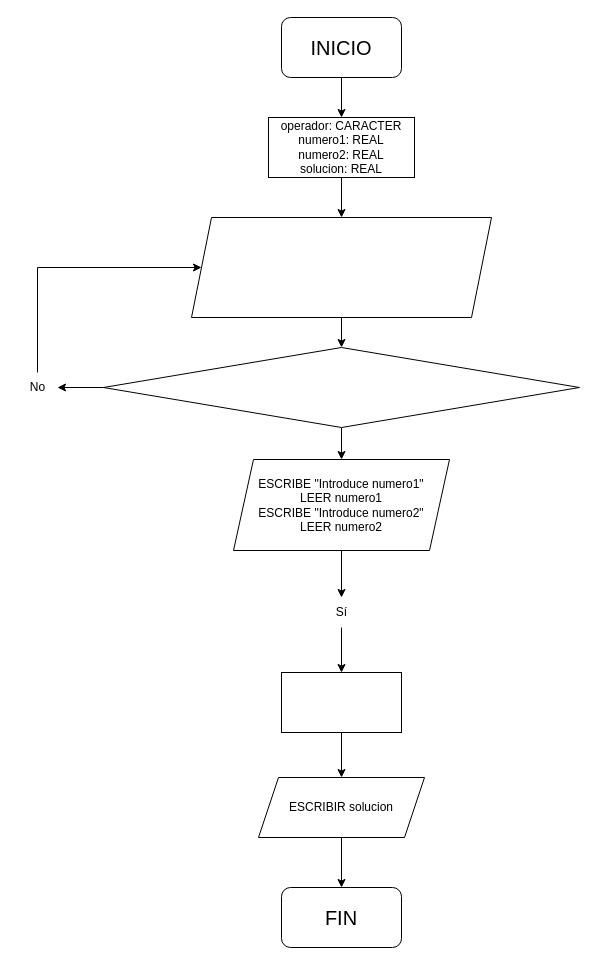
The diagram is 597 pixels wide and 965 high, and some of its shapes have lost their labels. Each missing label, with the centre of its shape:
ESCRIBE "Introduce un operador aritmetico" LEER operador: the point at 341,267
operador == "+" OR operador=="-" OR operador=="*" OR operador=="/": the point at 341,387
solucion<-- numero1 "+" operador "+" numero2: the point at 341,702
